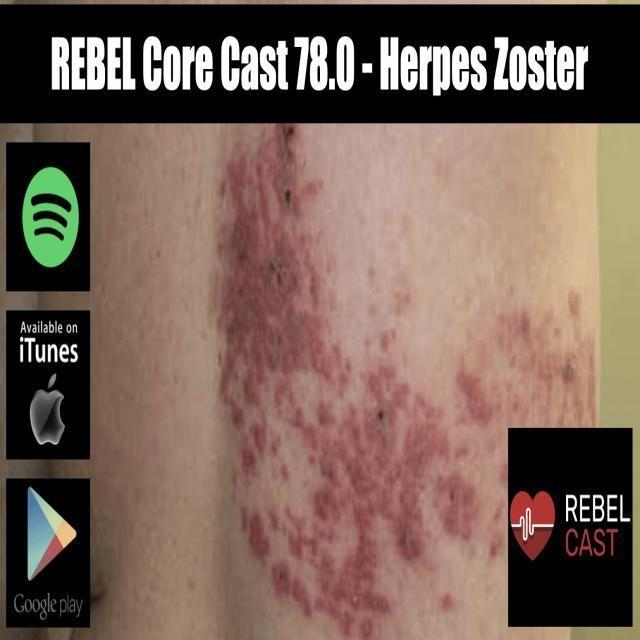Shingles: (212, 119, 594, 636)
